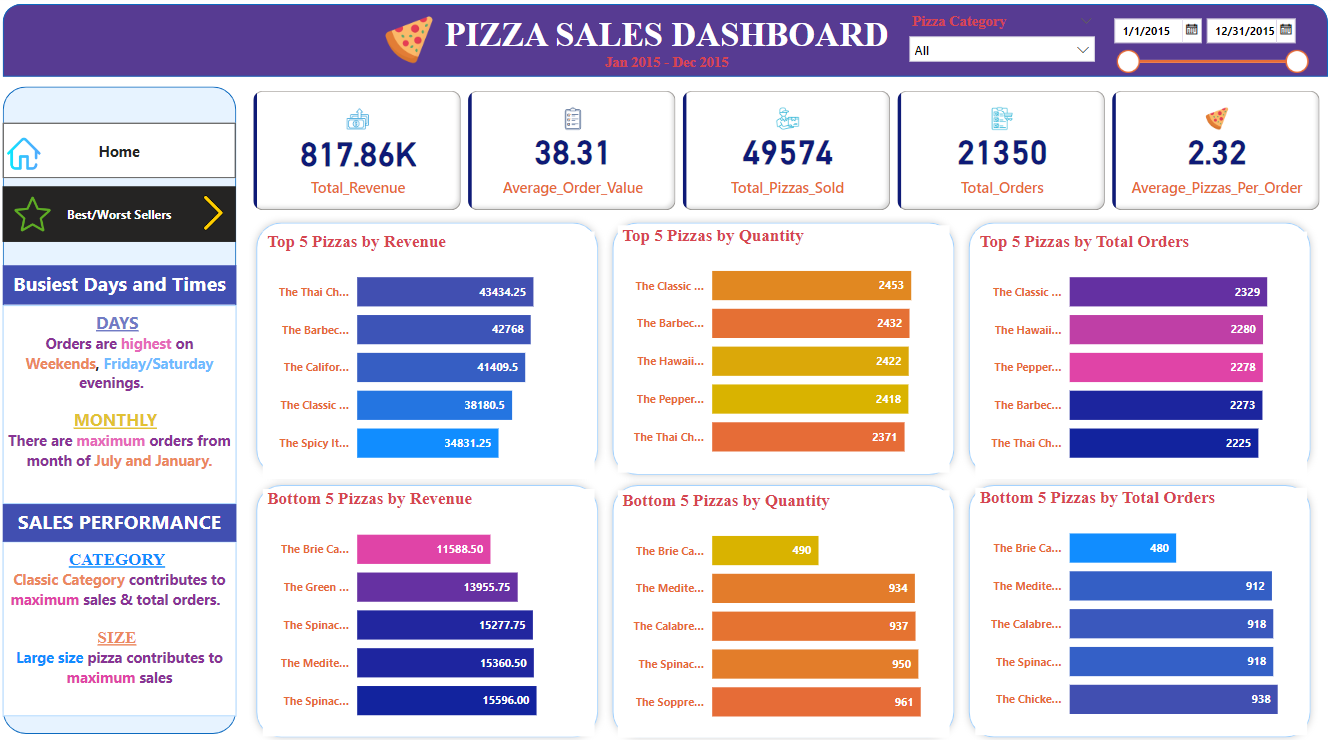

Layout of this report page (visuals, bound fields, positions):
{"tool":"powerbi","page":{"name":"Best/Worst Sellers","canvas":[1500,820],"ordinal":1},"visuals":[{"type":"cardVisual","fields":{"Data":["All_New_Measures.Total_Revenue","All_New_Measures.Average_Order_Value","All_New_Measures.Total_Pizzas_Sold","All_New_Measures.Total_Orders","All_New_Measures.Average_Pizzas_Per_Order"]},"box":[291.7,96.7,1185,141.7],"z":0},{"type":"shape","box":[20,5,1456.7,80],"z":1000},{"type":"textbox","box":[6.9,12.4,1486.7,72.8],"z":2000},{"type":"image","box":[435.6,12.4,63.2,64.6],"z":3000},{"type":"shape","box":[291.7,238.3,391.7,293.3],"z":4000},{"type":"shape","box":[20,96.7,256.7,711.7],"z":5000},{"type":"textbox","box":[20,293.3,256.7,43.3],"z":6000},{"type":"textbox","box":[20,596.7,256.7,191.7],"z":7000},{"type":"textbox","box":[20,555,256.7,41.7],"z":8000},{"type":"textbox","box":[20,336.7,256.7,218.3],"z":9000},{"type":"slicer","fields":{"Values":["pizza_sales.pizza_category"]},"box":[1006.7,11.7,223.3,68.3],"z":10000},{"type":"slicer","title":"O","fields":{"Values":["pizza_sales.order_date"]},"box":[1230,11.7,235,73.3],"z":11000},{"type":"shape","box":[683.3,238.3,391.7,293.3],"z":12000},{"type":"shape","box":[1075,238.3,391.7,293.3],"z":13000},{"type":"shape","box":[291.7,526.7,391.7,293.3],"z":14000},{"type":"shape","box":[683.3,526.7,391.7,293.3],"z":15000},{"type":"shape","box":[1075,526.7,391.7,293.3],"z":16000},{"type":"barChart","title":"Top 5 Pizzas by Revenue","fields":{"Y":["All_New_Measures.Total_Revenue"],"Category":["pizza_sales.pizza_name"]},"box":[306.7,255,365,271.7],"z":17000},{"type":"barChart","title":"Bottom 5 Pizzas by Revenue","fields":{"Y":["All_New_Measures.Total_Revenue"],"Category":["pizza_sales.pizza_name"]},"box":[306.7,538.3,365,271.7],"z":18000},{"type":"barChart","title":"Top 5 Pizzas by Quantity","fields":{"Y":["Sum(pizza_sales.quantity)"],"Category":["pizza_sales.pizza_name"]},"box":[696.7,248.3,365,271.7],"z":19000},{"type":"barChart","title":"Top 5 Pizzas by Total Orders","fields":{"Y":["All_New_Measures.Total_Orders"],"Category":["pizza_sales.pizza_name"]},"box":[1090,255,365,271.7],"z":20000},{"type":"barChart","title":"Bottom 5 Pizzas by Quantity","fields":{"Y":["Sum(pizza_sales.quantity)"],"Category":["pizza_sales.pizza_name"]},"box":[696.7,540,365,271.7],"z":21000},{"type":"barChart","title":"Bottom 5 Pizzas by Total Orders","fields":{"Y":["All_New_Measures.Total_Orders"],"Category":["pizza_sales.pizza_name"]},"box":[1090,536.7,365,271.7],"z":22000},{"type":"pageNavigator","box":[20,136.7,256.7,61.7],"z":23000},{"type":"pageNavigator","box":[20,206.7,256.7,61.7],"z":24000},{"type":"image","box":[20,143.3,46.7,55],"z":25000},{"type":"image","box":[20,211.7,65,50],"z":26000},{"type":"image","box":[228.3,200,48.3,68.3],"z":27000}]}

Visuals, with their boxes in screenshot pixels (x1, y1, x2, y2), scaled from the page's 1500x820 canvas onto the 1331x740 screenshot:
cardVisual - All_New_Measures.Total_Revenue x All_New_Measures.Average_Order_Value: (left=259, top=87, right=1310, bottom=215)
shape: (left=18, top=5, right=1310, bottom=77)
textbox: (left=6, top=11, right=1325, bottom=77)
image: (left=387, top=11, right=443, bottom=69)
shape: (left=259, top=215, right=606, bottom=480)
shape: (left=18, top=87, right=246, bottom=730)
textbox: (left=18, top=265, right=246, bottom=304)
textbox: (left=18, top=538, right=246, bottom=711)
textbox: (left=18, top=501, right=246, bottom=538)
textbox: (left=18, top=304, right=246, bottom=501)
slicer - pizza_sales.pizza_category: (left=893, top=11, right=1091, bottom=72)
"O" slicer: (left=1091, top=11, right=1300, bottom=77)
shape: (left=606, top=215, right=954, bottom=480)
shape: (left=954, top=215, right=1301, bottom=480)
shape: (left=259, top=475, right=606, bottom=739)
shape: (left=606, top=475, right=954, bottom=739)
shape: (left=954, top=475, right=1301, bottom=739)
"Top 5 Pizzas by Revenue" barChart: (left=272, top=230, right=596, bottom=475)
"Bottom 5 Pizzas by Revenue" barChart: (left=272, top=486, right=596, bottom=731)
"Top 5 Pizzas by Quantity" barChart: (left=618, top=224, right=942, bottom=469)
"Top 5 Pizzas by Total Orders" barChart: (left=967, top=230, right=1291, bottom=475)
"Bottom 5 Pizzas by Quantity" barChart: (left=618, top=487, right=942, bottom=733)
"Bottom 5 Pizzas by Total Orders" barChart: (left=967, top=484, right=1291, bottom=730)
pageNavigator: (left=18, top=123, right=246, bottom=179)
pageNavigator: (left=18, top=187, right=246, bottom=242)
image: (left=18, top=129, right=59, bottom=179)
image: (left=18, top=191, right=75, bottom=236)
image: (left=203, top=180, right=245, bottom=242)
